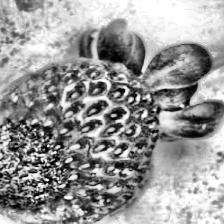Anthracnose Fruit Rot: (0, 94, 101, 224)
